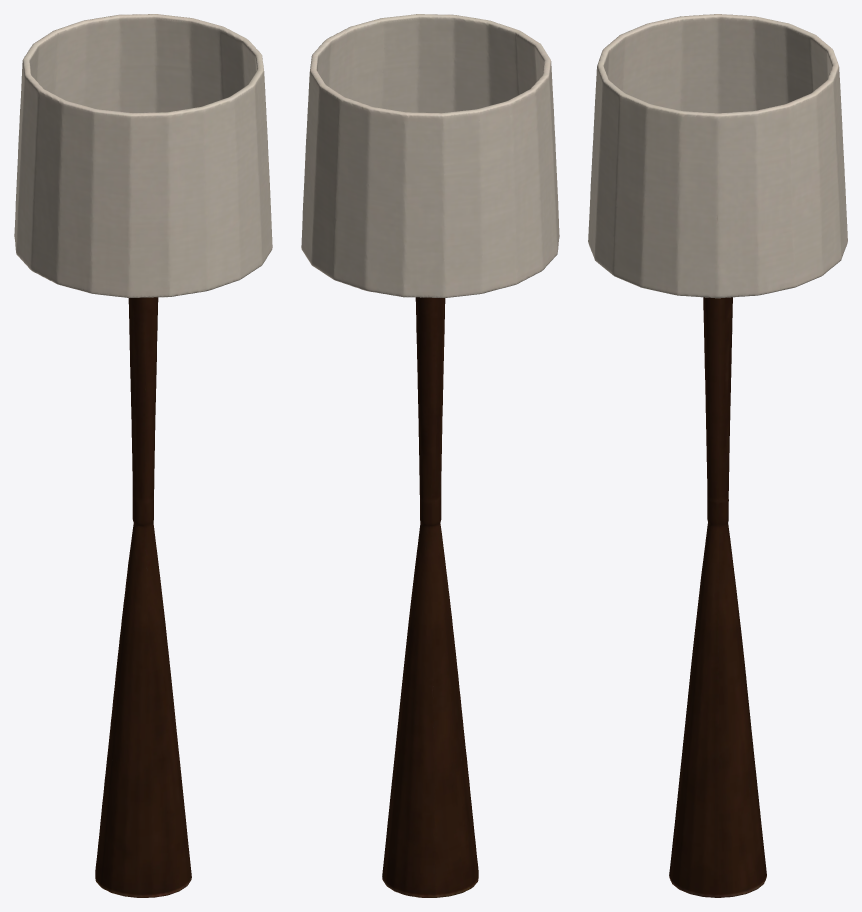
Rendered from uploaded-floor-lamp.glb.
3 renders of one model, left to right at view 1: azimuth 30°, elevation 25°; view 2: azimuth 150°, elevation 25°; view 3: azimuth 270°, elevation 25°, orthographic.
Parts seen in each view (by area): view 1: world; view 2: world; view 3: world.
Boxes of the visible parts, bbox=[...] form: world: bbox=[14, 14, 272, 897]; world: bbox=[301, 14, 559, 897]; world: bbox=[588, 14, 847, 897].
Bounding box in the file's own units: 0.2901 × 1 × 0.2905.
Materials: 1 (1 with a texture image).
